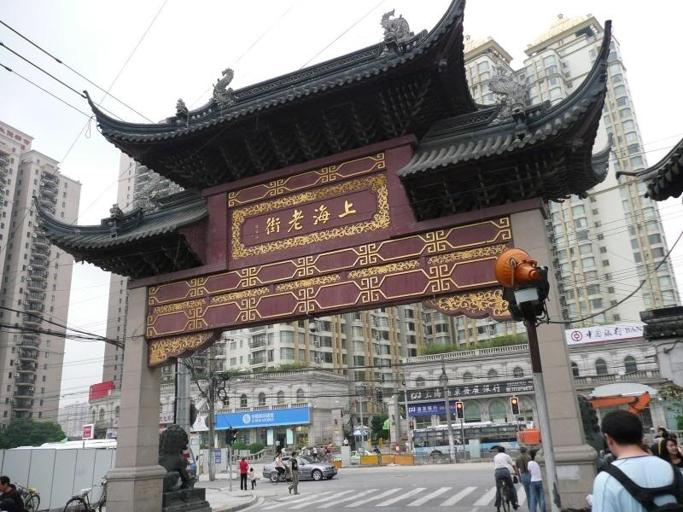non-vehicle: (60, 477, 107, 511), (497, 471, 518, 511), (13, 481, 40, 511)
